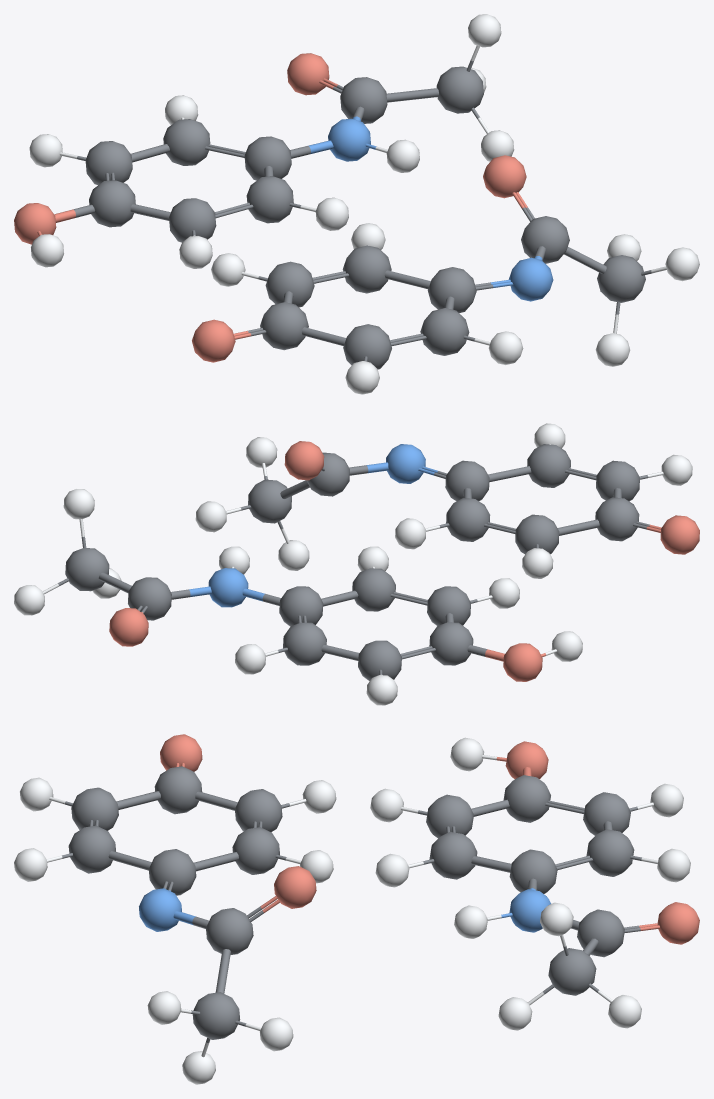
The model's file is acetaminophen_parts.glb.
3 views of the same model, one above another, from view 1: azimuth 30°, elevation 25°; view 2: azimuth 150°, elevation 25°; view 3: azimuth 270°, elevation 25° (orthographic). The views are drawn at different scales.
Parts seen in each view (by area): view 1: node-geom45, node-geom38.001, node-geom42.001, node-geom41, node-geom37, node-geom43, node-geom46.001, node-geom44.001, node-geom38, node-geom39.001, node-geom43.001, node-geom45.001 (+25 smaller); view 2: node-geom41, node-geom46.001, node-geom43, node-geom45, node-geom44.001, node-geom42.001, node-geom38.001, node-geom37, node-geom39.001, node-geom41.001, node-geom45.001, node-geom40 (+25 smaller); view 3: node-geom37, node-geom38.001, node-geom38, node-geom46.001, node-geom41, node-geom45, node-geom42.001, node-geom44.001, node-geom43, node-geom39.001, node-geom40, node-geom42 (+26 smaller).
Part boxes in pixels (x1,y1,x2,y2): node-geom45: [420, 308, 469, 355]; node-geom38.001: [436, 66, 483, 113]; node-geom42.001: [246, 176, 293, 223]; node-geom41: [342, 245, 391, 293]; node-geom37: [597, 255, 645, 302]; node-geom43: [260, 302, 308, 350]; node-geom46.001: [163, 119, 210, 165]; node-geom44.001: [89, 180, 135, 227]; node-geom38: [521, 216, 569, 263]; node-geom39.001: [340, 77, 387, 123]; node-geom43.001: [169, 198, 216, 242]; node-geom45.001: [85, 141, 132, 184]; node-geom41: [446, 498, 490, 541]; node-geom46.001: [283, 622, 326, 665]; node-geom43: [595, 497, 639, 541]; node-geom45: [527, 444, 570, 487]; node-geom44.001: [429, 622, 473, 665]; node-geom42.001: [352, 568, 395, 611]; node-geom38.001: [65, 548, 109, 591]; node-geom37: [248, 479, 291, 523]; node-geom39.001: [128, 577, 171, 620]; node-geom41.001: [279, 586, 323, 626]; node-geom45.001: [358, 640, 401, 681]; node-geom40: [445, 460, 489, 501]; node-geom37: [192, 992, 240, 1039]; node-geom38.001: [548, 948, 596, 995]; node-geom38: [206, 908, 253, 954]; node-geom46.001: [586, 829, 634, 876]; node-geom41: [232, 827, 279, 874]; node-geom45: [68, 825, 115, 873]; node-geom42.001: [429, 832, 477, 879]; node-geom44.001: [503, 775, 550, 822]; node-geom43: [154, 766, 202, 814]; node-geom39.001: [577, 909, 624, 957]; node-geom40: [148, 849, 196, 895]; node-geom42: [235, 789, 282, 832].
Bounding box in the file's own units: 9.34 × 3.45 × 10.53.
